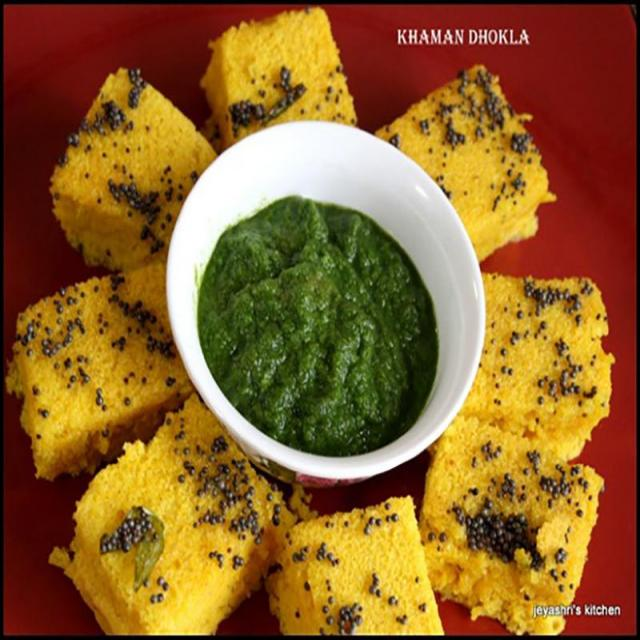dhokla: (12, 0, 593, 640)
